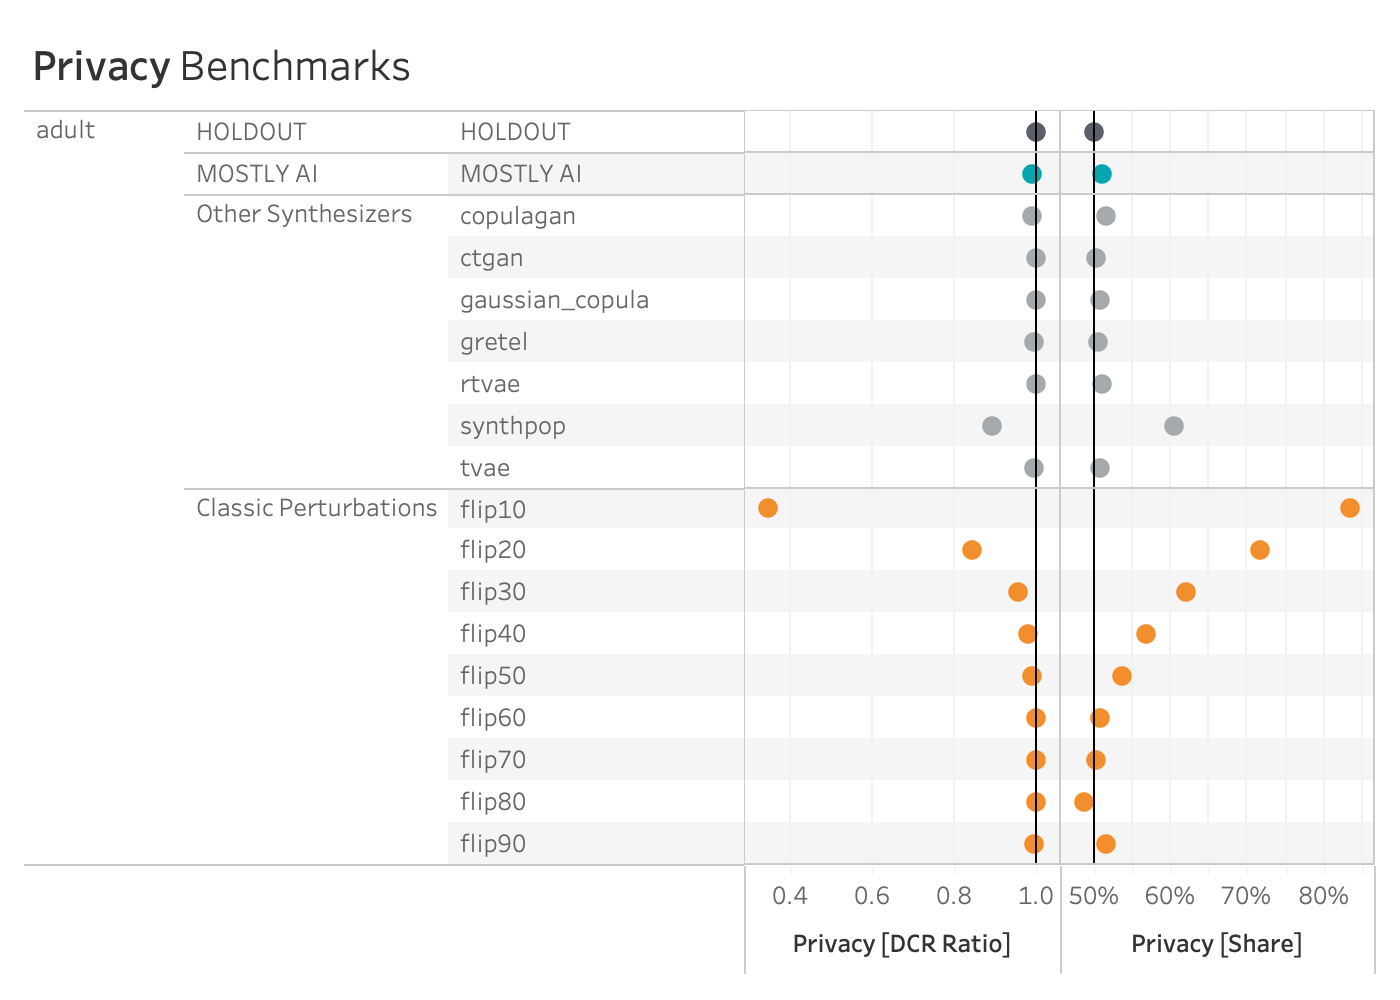

This screenshot's page, from the dashboard's own definition file:
{"tool":"tableau","page":{"name":"privacy_adult","canvas":[700,500],"ordinal":4},"visuals":[{"type":"worksheet","title":"priv_share","mark":"Shape","rows":["dataset","Calculation_5919700265430339584","synthesizer"],"cols":["priv_dcr_ratio_q50","priv_share"],"box":[8,8,684,484]}]}

Visuals, with their boxes in screenshot pixels (x1, y1, x2, y2), scaled from the page's 700x500 canvas onto the 1400x1000 screenshot:
"priv_share" worksheet (Shape marks): 16,16,1384,984
